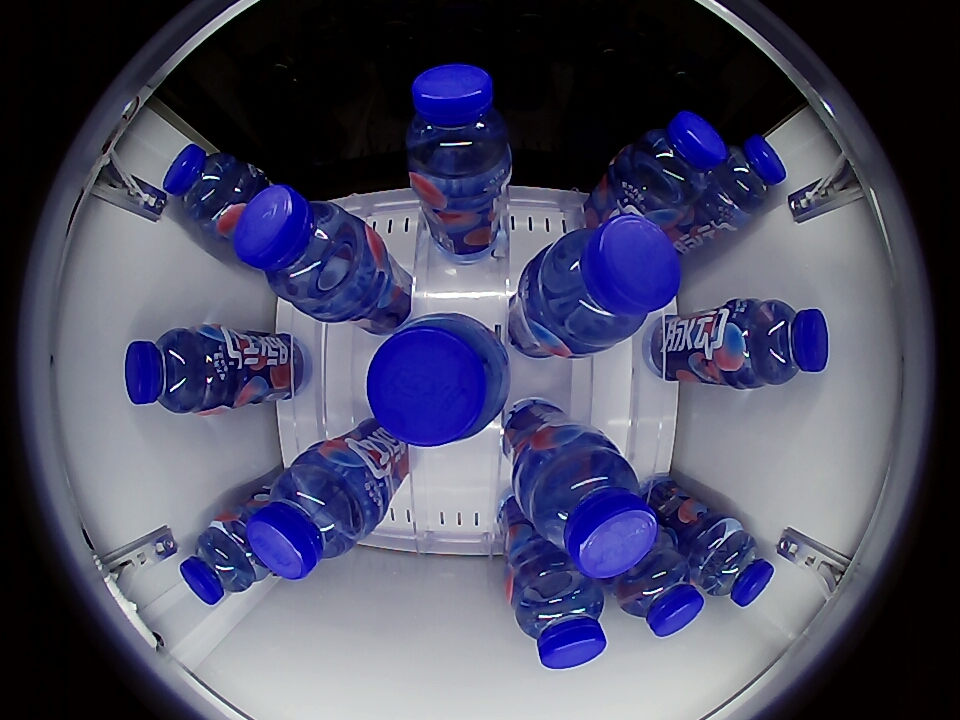maidong: (533, 213, 682, 352), (522, 438, 659, 578), (366, 313, 508, 448), (246, 448, 382, 579), (233, 185, 372, 306), (406, 62, 511, 194), (619, 111, 727, 213), (512, 566, 609, 671), (613, 533, 705, 638), (732, 300, 830, 388), (124, 328, 223, 414), (161, 144, 257, 232), (688, 520, 775, 607), (180, 520, 263, 606), (708, 134, 787, 218)
